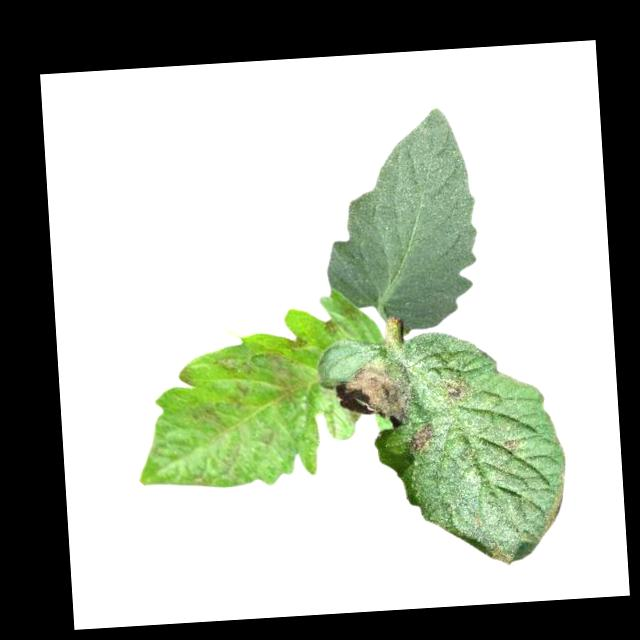Late_blight: (333, 354, 414, 435), (261, 332, 313, 410), (187, 401, 225, 438), (215, 352, 255, 378), (408, 425, 438, 454), (443, 377, 469, 401), (500, 438, 520, 454)
healthy: (316, 105, 483, 337)
